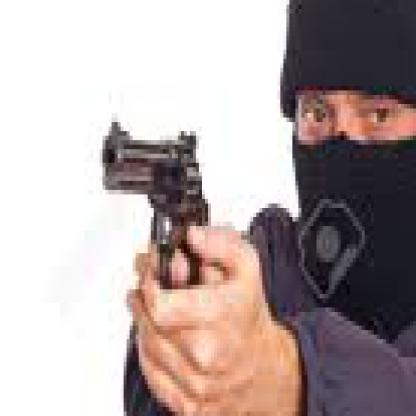gun: (84, 108, 217, 308)
